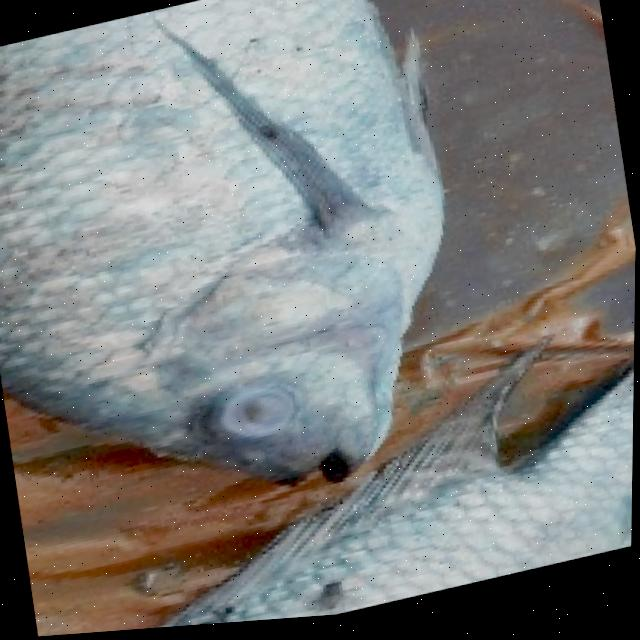Non-Fresh: (0, 0, 463, 543)
